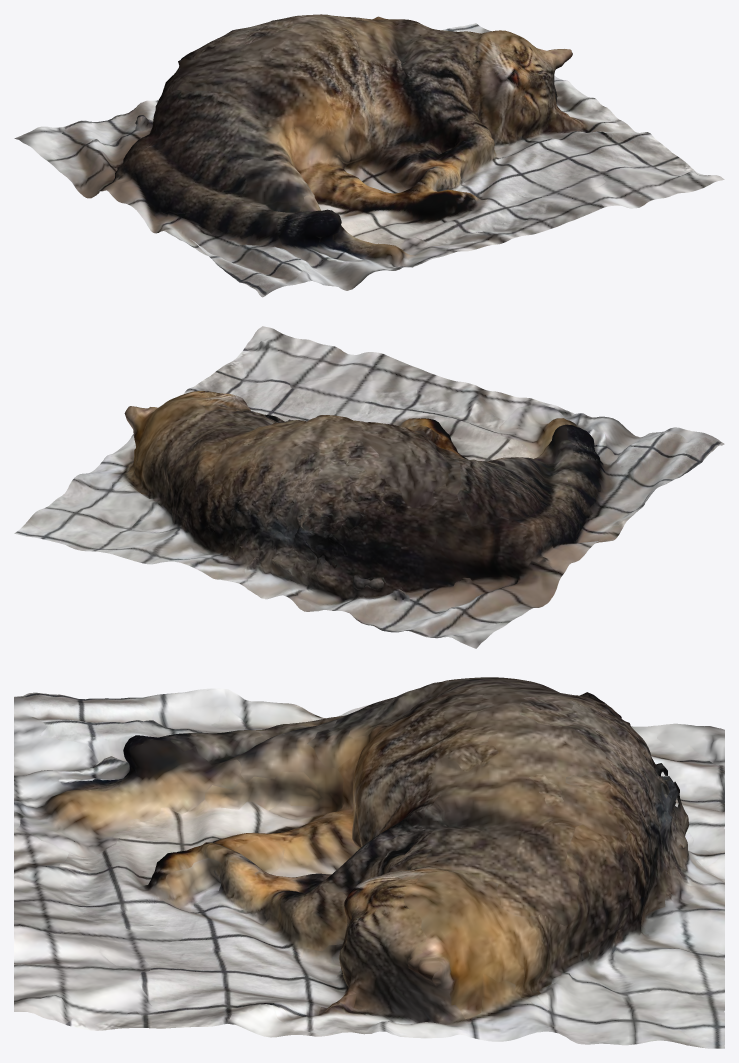
The model's file is cat3-optimized.glb.
3 renders of one model, top to bottom at view 1: azimuth 30°, elevation 25°; view 2: azimuth 150°, elevation 25°; view 3: azimuth 270°, elevation 25°, orthographic. The views are drawn at different scales.
Parts seen in each view (by area): view 1: Mesh_0.006; view 2: Mesh_0.006; view 3: Mesh_0.006.
Boxes of the visible parts, x1,y1,x2,y2 form: Mesh_0.006: (14, 14, 724, 297); Mesh_0.006: (14, 326, 724, 648); Mesh_0.006: (14, 677, 724, 1048).
Bounding box in the file's own units: 0.5366 × 0.1328 × 0.4997.
1 material, 1 textured.
